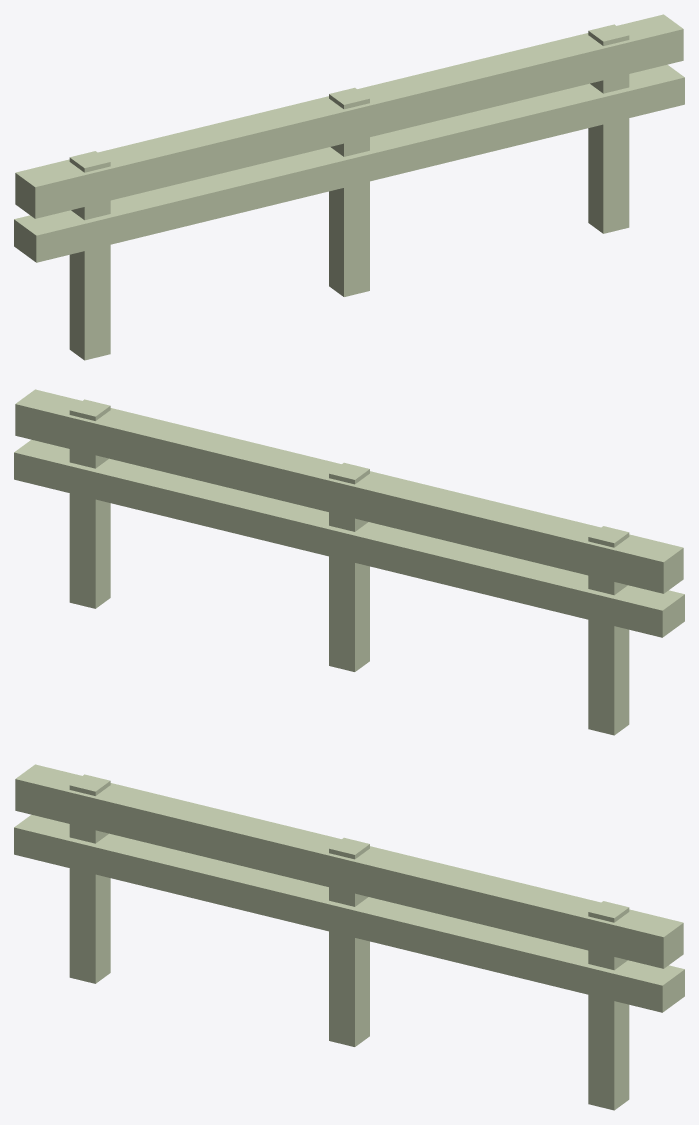
File: furniture_guardrail_segment.glb
3 renders of one model, top to bottom at view 1: azimuth 30°, elevation 25°; view 2: azimuth 150°, elevation 25°; view 3: azimuth 330°, elevation 25°, orthographic.
Visible parts, largest first — view 1: rail_upper, rail_lower, post_2, post_0, post_1; view 2: rail_upper, rail_lower, post_2, post_0, post_1; view 3: rail_upper, rail_lower, post_0, post_2, post_1.
Boxes of the visible parts, x1,y1,x2,y2 form: rail_upper: [15, 14, 683, 218]; rail_lower: [14, 64, 684, 262]; post_2: [588, 24, 629, 233]; post_0: [69, 151, 110, 360]; post_1: [329, 87, 369, 296]; rail_upper: [15, 389, 683, 593]; rail_lower: [14, 439, 684, 637]; post_2: [69, 399, 110, 608]; post_0: [588, 526, 629, 735]; post_1: [329, 462, 369, 671]; rail_upper: [15, 764, 683, 968]; rail_lower: [14, 814, 684, 1012]; post_0: [69, 774, 110, 983]; post_2: [588, 901, 629, 1110]; post_1: [329, 837, 369, 1046].
Bounding box in the file's own units: 3 × 0.85 × 0.18.
